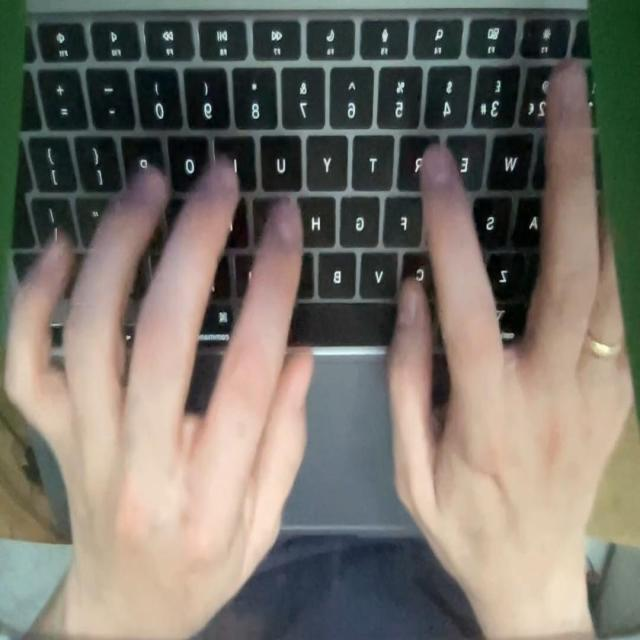keyboard-with-hands: (5, 0, 622, 532)
